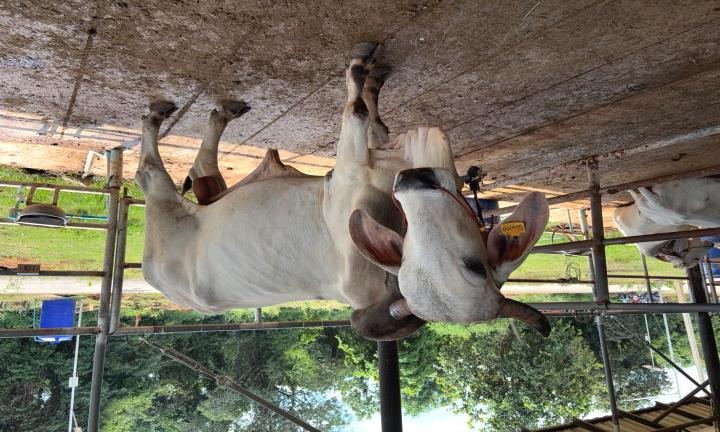Brahman: (136, 42, 552, 341)
